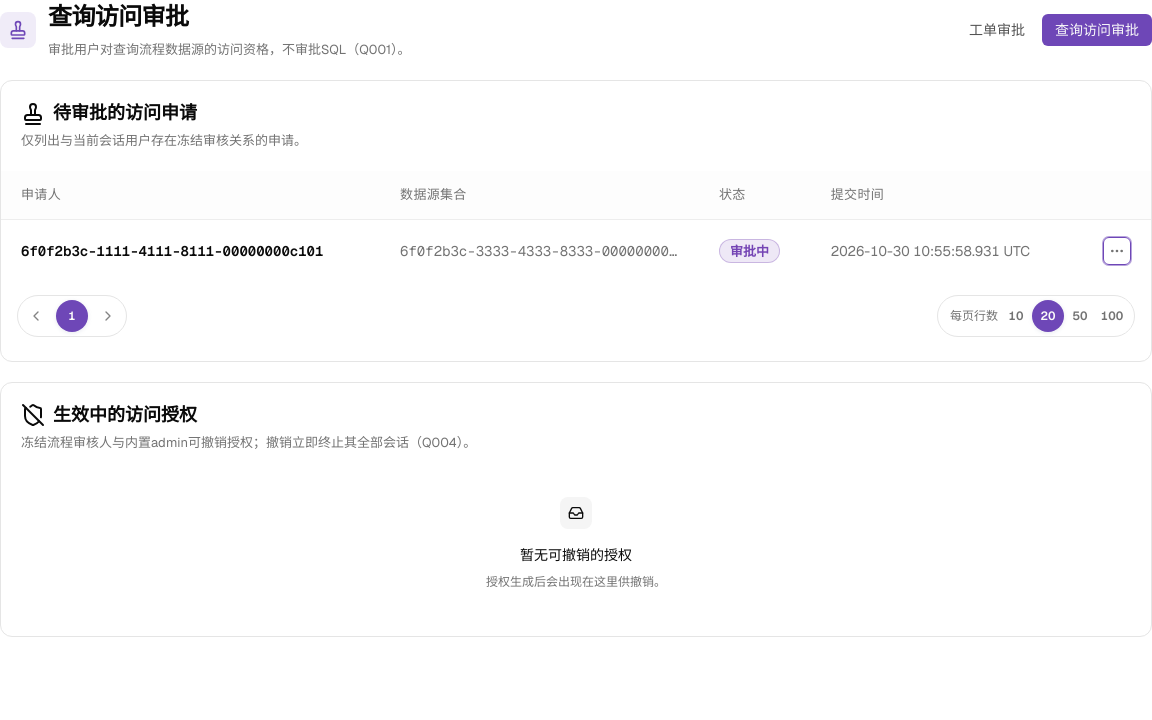
Test case: review R1 fixes › H-2: deciding a pending request removes it from the queue via cache invalidation
Press Enter
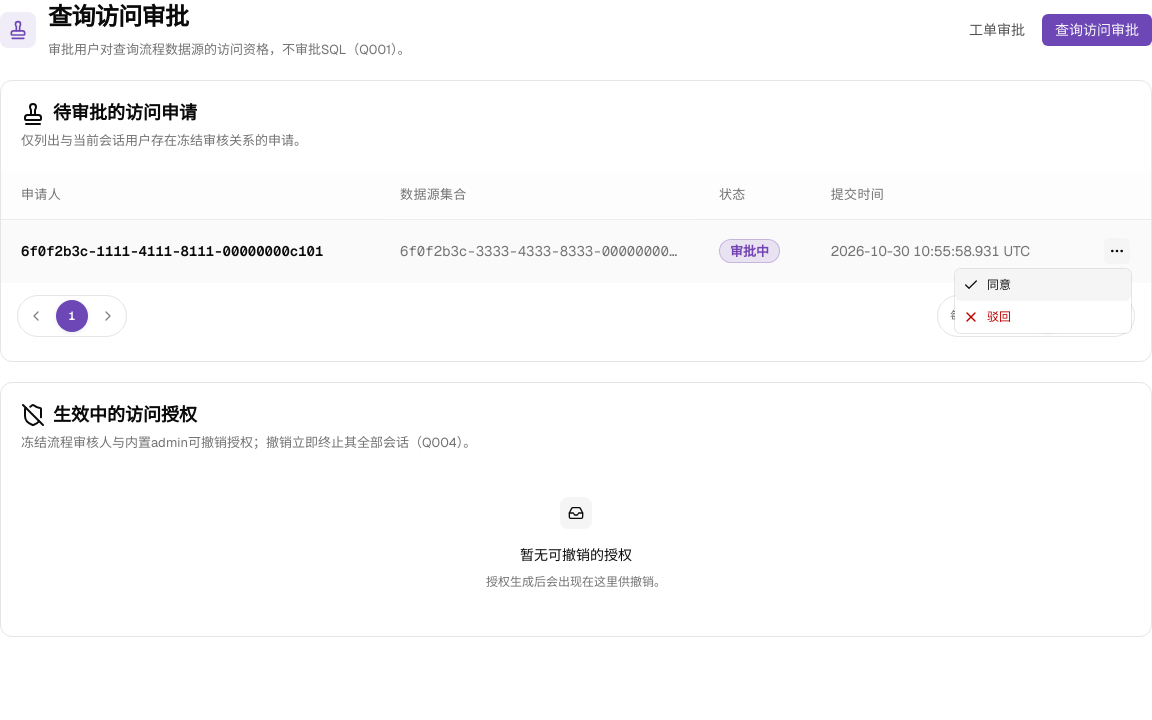
Click the menu item with test id "query-access-approve-qar-fixture-pending".
click(1043, 285)  # box [955,269,1131,301]
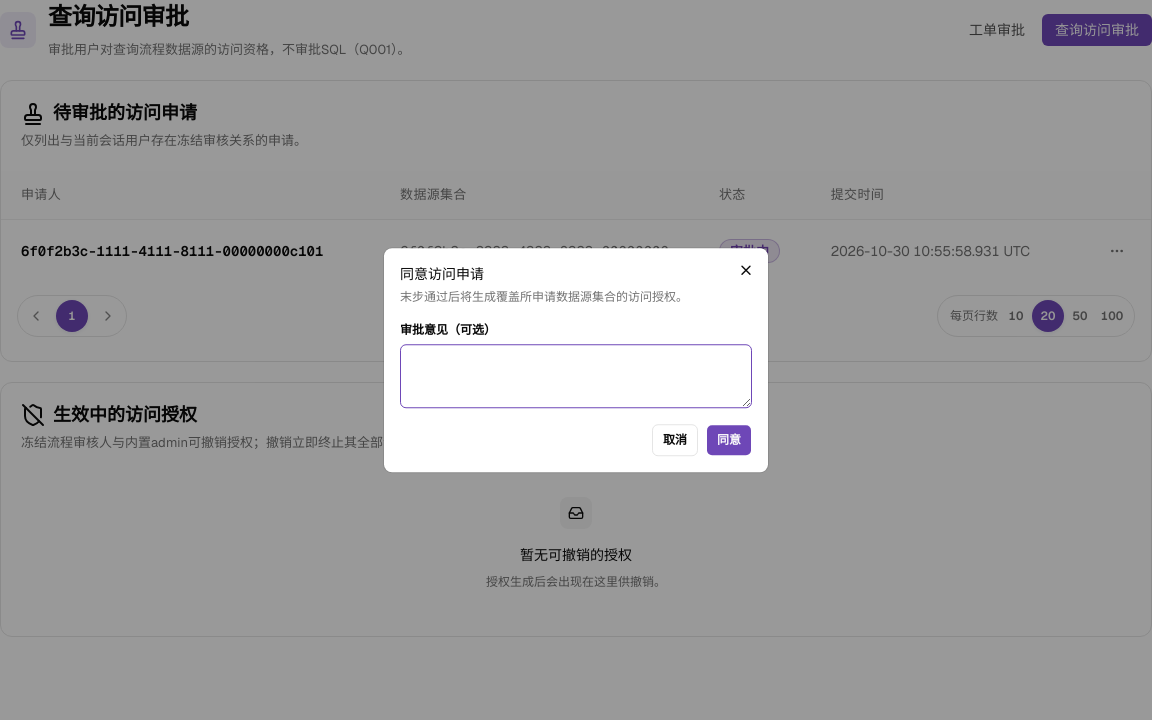
Click the button with test id "query-access-decision-confirm".
click(729, 440)  # box [706,424,752,456]
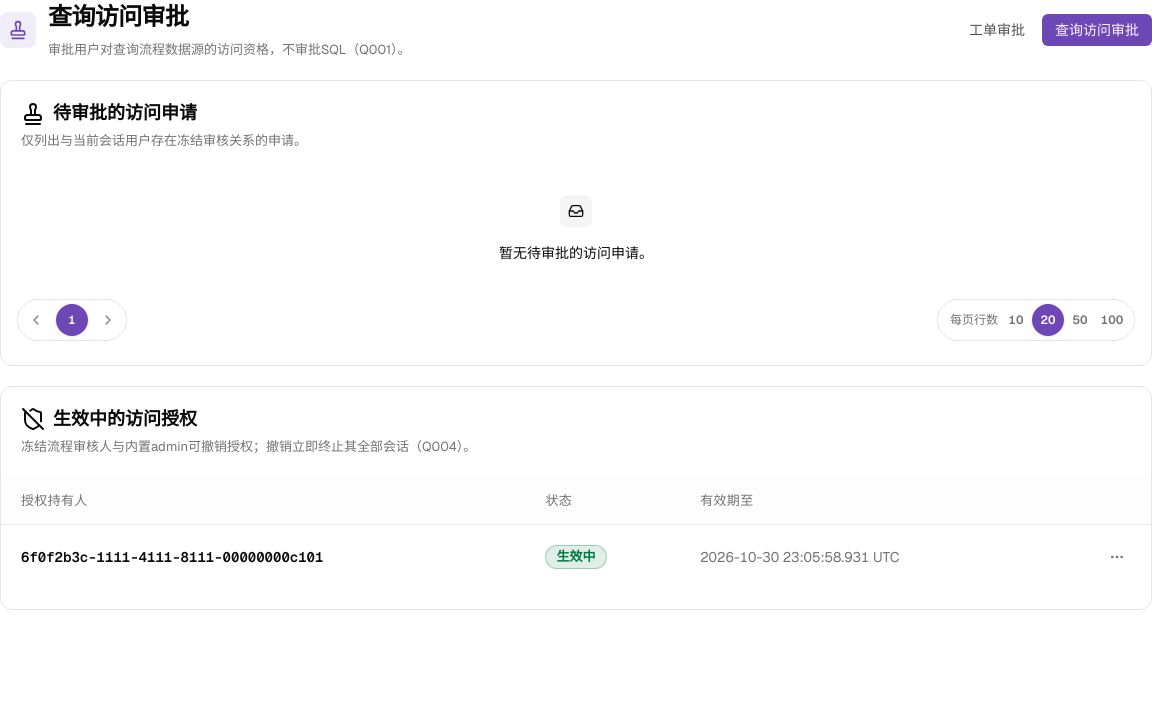
Result: the row with test id "query-access-pending-qar-fixture-pending" is gone
